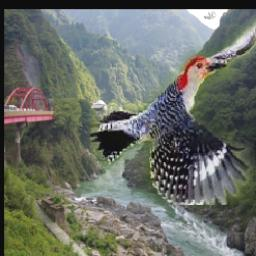Woodpecker: (89, 15, 256, 206)
